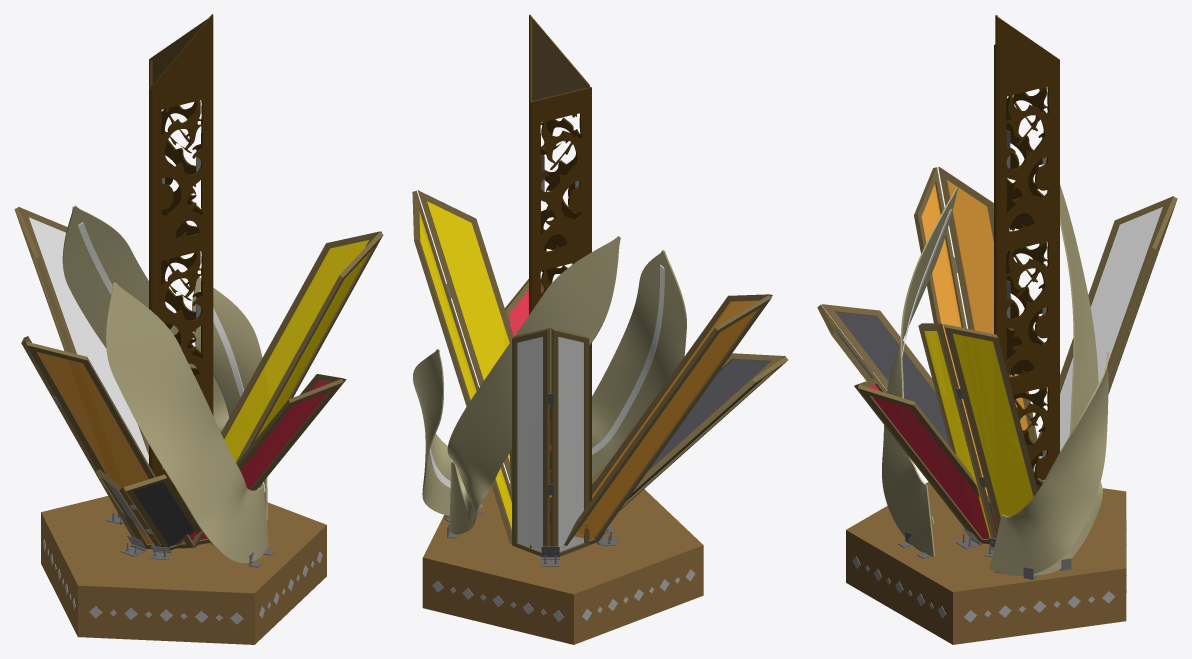
The model's file is student-work-02.glb.
3 renders of one model, left to right at view 1: azimuth 30°, elevation 25°; view 2: azimuth 150°, elevation 25°; view 3: azimuth 270°, elevation 25°, orthographic. The views are drawn at different scales.
Visible parts, largest first — view 1: Sweep_Front_S_Band_FlexiPly_6mm, Tower_Face_Board_2_Kala_Fretwork_Pointed_From_IMG3910_Mirror, Base_Plywood_Top_Deck_9mm, Base_Solidwood_Side_Board_5, Sweep_Back_Rising_Band_FlexiPly_6mm, Shield_Yellow_Celebration_HalfR_Acrylic_Colour_Film, Shield_Orange_Confrontation_HalfR_Acrylic_Colour_Film, Shield_White_Spiritual_HalfL_Acrylic_Colour_Film, Tower_Face_Board_3_Kala_Fretwork_Pointed_From_IMG3910, Sweep_BackRight_Flame_FlexiPly_6mm, Base_Solidwood_Side_Board_1, Shield_Orange_Confrontation_HalfR_Plywood_Frame (+15 smaller); view 2: Sweep_Back_Rising_Band_FlexiPly_6mm, Base_Plywood_Top_Deck_9mm, Sweep_Front_S_Band_FlexiPly_6mm, Tower_Face_Board_1_Kala_Fretwork_Pointed_From_IMG3910, Base_Solidwood_Side_Board_3, Shield_Yellow_Celebration_HalfL_Acrylic_Colour_Film, Base_Solidwood_Side_Board_4, Shield_White_Spiritual_HalfL_Acrylic_Colour_Film, Shield_White_Spiritual_HalfR_Acrylic_Colour_Film, Shield_Orange_Confrontation_HalfL_Acrylic_Colour_Film, Tower_Face_Board_2_Kala_Fretwork_Pointed_From_IMG3910_Mirror, Shield_Orange_Confrontation_HalfL_Plywood_Frame (+14 smaller); view 3: Tower_Face_Board_3_Kala_Fretwork_Pointed_From_IMG3910, Base_Plywood_Top_Deck_9mm, Sweep_BackRight_Flame_FlexiPly_6mm, Base_Solidwood_Side_Board_2, Shield_Yellow_Celebration_HalfR_Acrylic_Colour_Film, Sweep_Front_S_Band_FlexiPly_6mm, Shield_White_Spiritual_HalfR_Acrylic_Colour_Film, Base_Solidwood_Side_Board_1, Tower_Face_Board_1_Kala_Fretwork_Pointed_From_IMG3910, Sweep_Back_Rising_Band_FlexiPly_6mm, Shield_Orange_Confrontation_HalfL_Acrylic_Colour_Film, Shield_Red_Preparation_HalfR_Acrylic_Colour_Film (+15 smaller).
Boxes of the visible parts, x1,y1,x2,y2 form: Sweep_Front_S_Band_FlexiPly_6mm: (106, 282, 268, 562); Tower_Face_Board_2_Kala_Fretwork_Pointed_From_IMG3910_Mirror: (151, 14, 213, 516); Base_Plywood_Top_Deck_9mm: (41, 496, 326, 595); Base_Solidwood_Side_Board_5: (78, 587, 254, 642); Sweep_Back_Rising_Band_FlexiPly_6mm: (62, 205, 258, 489); Shield_Yellow_Celebration_HalfR_Acrylic_Colour_Film: (224, 240, 368, 461); Shield_Orange_Confrontation_HalfR_Acrylic_Colour_Film: (37, 352, 185, 544); Shield_White_Spiritual_HalfL_Acrylic_Colour_Film: (29, 217, 148, 464); Tower_Face_Board_3_Kala_Fretwork_Pointed_From_IMG3910: (149, 17, 210, 513); Sweep_BackRight_Flame_FlexiPly_6mm: (192, 277, 267, 519); Base_Solidwood_Side_Board_1: (254, 527, 326, 642); Shield_Orange_Confrontation_HalfR_Plywood_Frame: (26, 341, 194, 548); Sweep_Back_Rising_Band_FlexiPly_6mm: (447, 236, 620, 534); Base_Plywood_Top_Deck_9mm: (422, 483, 703, 596); Sweep_Front_S_Band_FlexiPly_6mm: (592, 249, 686, 476); Tower_Face_Board_1_Kala_Fretwork_Pointed_From_IMG3910: (532, 87, 591, 546); Base_Solidwood_Side_Board_3: (422, 560, 573, 642); Shield_Yellow_Celebration_HalfL_Acrylic_Colour_Film: (427, 201, 551, 497); Base_Solidwood_Side_Board_4: (574, 547, 703, 642); Shield_White_Spiritual_HalfL_Acrylic_Colour_Film: (517, 337, 542, 551); Shield_White_Spiritual_HalfR_Acrylic_Colour_Film: (558, 337, 583, 551); Shield_Orange_Confrontation_HalfL_Acrylic_Colour_Film: (574, 310, 756, 540); Tower_Face_Board_2_Kala_Fretwork_Pointed_From_IMG3910_Mirror: (529, 15, 589, 524); Shield_Orange_Confrontation_HalfL_Plywood_Frame: (564, 295, 771, 546); Tower_Face_Board_3_Kala_Fretwork_Pointed_From_IMG3910: (997, 17, 1059, 490); Base_Plywood_Top_Deck_9mm: (846, 482, 1126, 594); Sweep_BackRight_Flame_FlexiPly_6mm: (989, 352, 1108, 575); Base_Solidwood_Side_Board_2: (953, 570, 1126, 642); Shield_Yellow_Celebration_HalfR_Acrylic_Colour_Film: (952, 333, 1033, 517); Sweep_Front_S_Band_FlexiPly_6mm: (882, 187, 958, 556); Shield_White_Spiritual_HalfR_Acrylic_Colour_Film: (1033, 207, 1162, 480); Base_Solidwood_Side_Board_1: (846, 532, 952, 642); Tower_Face_Board_1_Kala_Fretwork_Pointed_From_IMG3910: (994, 44, 1047, 486); Sweep_Back_Rising_Band_FlexiPly_6mm: (1033, 185, 1102, 575); Shield_Orange_Confrontation_HalfL_Acrylic_Colour_Film: (947, 180, 1029, 435); Shield_Red_Preparation_HalfR_Acrylic_Colour_Film: (872, 396, 997, 539).
Size of the model in its own units: 12.08 by 18.09 by 10.12.
